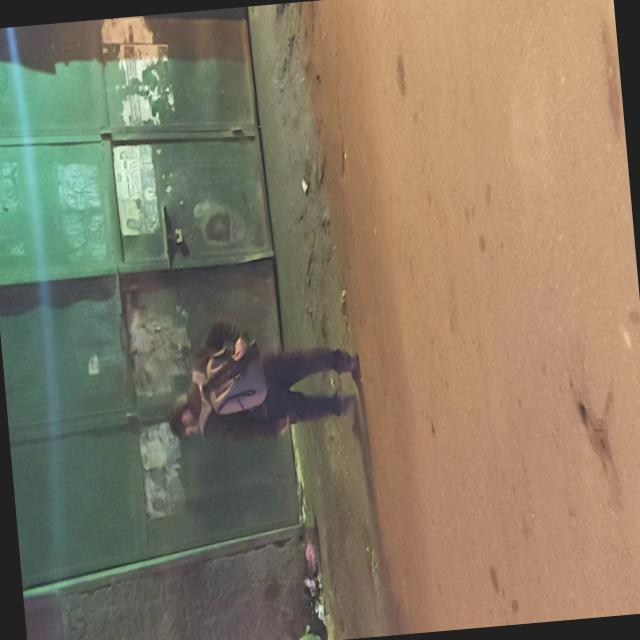long weapon: (191, 328, 263, 412)
